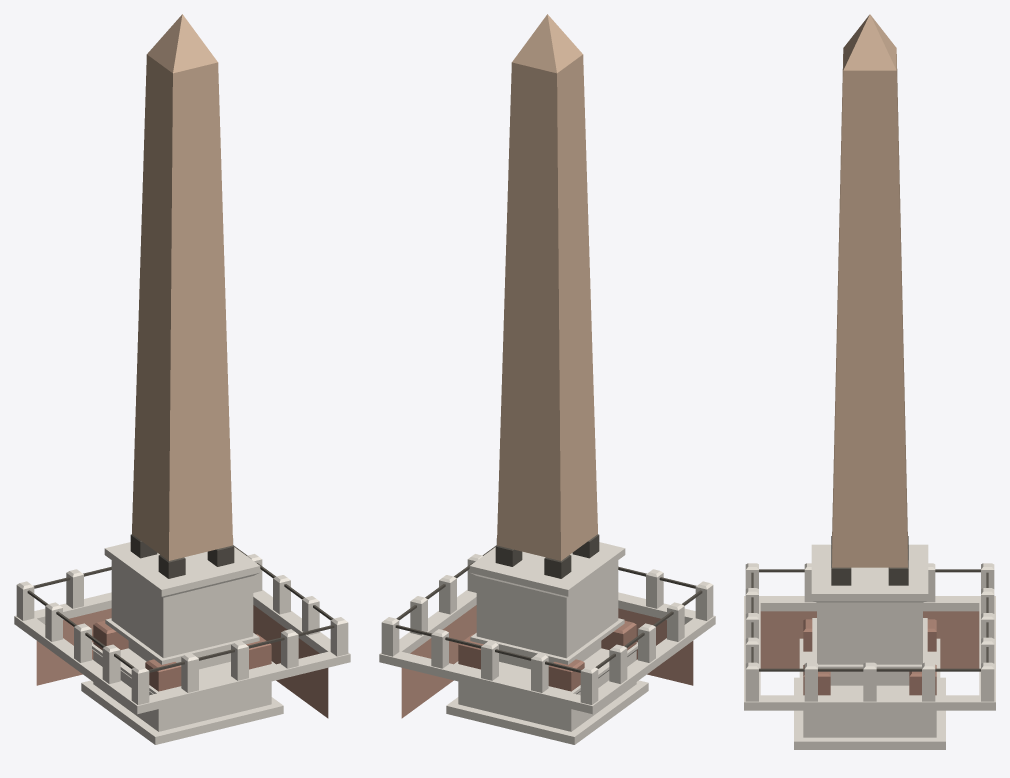
Rendered from istanbul-obelisk-of-theodosius.glb.
3 views of the same model, side by side, from view 1: azimuth 30°, elevation 25°; view 2: azimuth 150°, elevation 25°; view 3: azimuth 270°, elevation 25° (orthographic). The views are drawn at different scales.
Parts seen in each view (by area): view 1: Obelisk of Theodosius; view 2: Obelisk of Theodosius; view 3: Obelisk of Theodosius.
Boxes of the visible parts, x1=… form: Obelisk of Theodosius: x1=14, y1=14, x2=350, y2=744; Obelisk of Theodosius: x1=379, y1=14, x2=715, y2=744; Obelisk of Theodosius: x1=744, y1=14, x2=995, y2=749.
Bounding box in the file's own units: 8.3 × 25.6 × 8.3.
